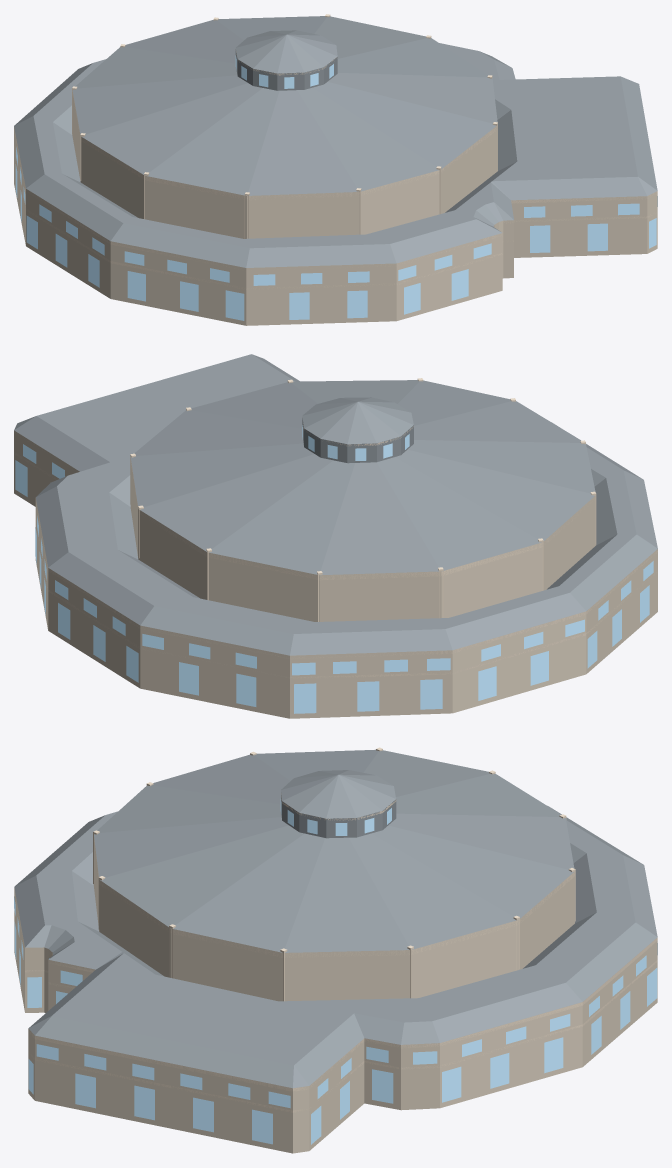
The picture shows the model from 3 angles, top to bottom: view 1: azimuth 30°, elevation 25°; view 2: azimuth 150°, elevation 25°; view 3: azimuth 270°, elevation 25°; orthographic projection. The views are drawn at different scales.
Visible parts, largest first — view 1: roof, stone, window, trim; view 2: roof, stone, window, trim; view 3: roof, stone, window, trim.
Boxes of the visible parts, box(x1,y1,x2,y2) form: roof: box(14, 16, 657, 267); stone: box(14, 95, 657, 325); window: box(15, 55, 657, 320); trim: box(14, 14, 657, 289); roof: box(14, 354, 657, 655); stone: box(14, 430, 657, 718); window: box(15, 425, 653, 713); trim: box(14, 378, 657, 678); roof: box(14, 749, 657, 1088); stone: box(14, 837, 657, 1153); window: box(14, 799, 657, 1144); trim: box(14, 747, 657, 1112).
Bounding box in the file's own units: 51.36 × 15 × 44.72.
